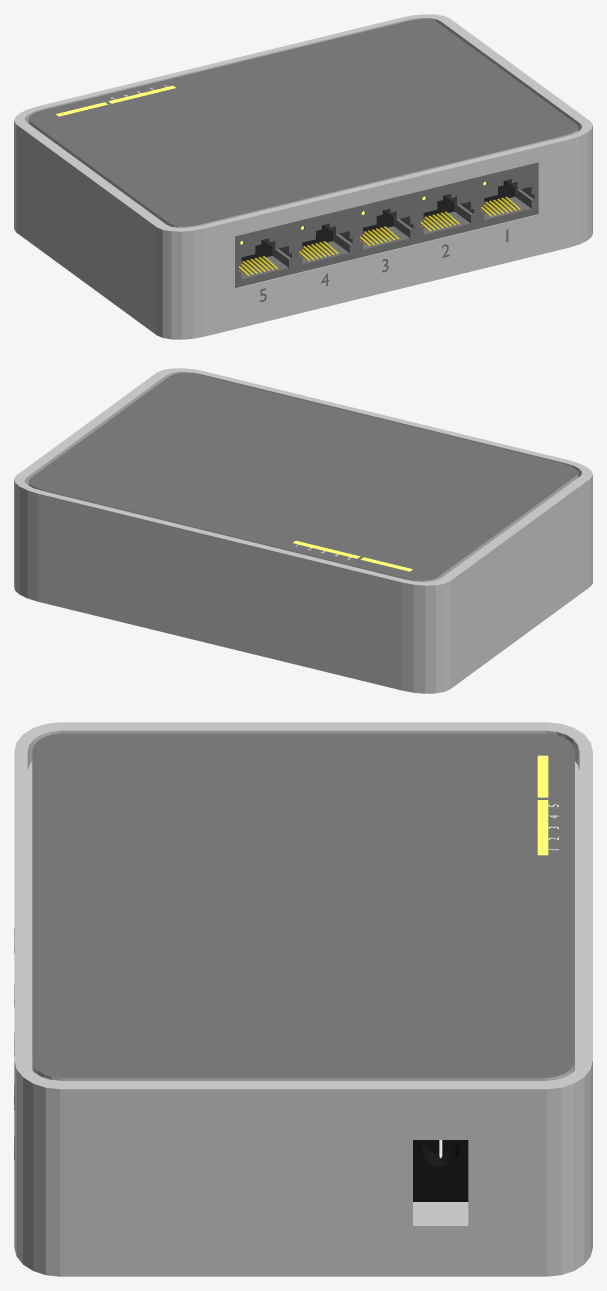
The picture shows the model from 3 angles, top to bottom: view 1: azimuth 30°, elevation 25°; view 2: azimuth 150°, elevation 25°; view 3: azimuth 270°, elevation 25°; orthographic projection. The views are drawn at different scales.
Visible parts, largest first — view 1: Plane.005_0, Plane.009_2, Plane.011_10; view 2: Plane.005_0; view 3: Plane.005_0.
Part boxes in pixels (x1,y1,x2,y2): Plane.005_0: (14,14,592,339); Plane.009_2: (204,139,569,336); Plane.011_10: (238,196,521,275); Plane.005_0: (14,368,592,693); Plane.005_0: (14,722,592,1276).
Size of the model in its own units: 1 by 0.2402 by 0.6698.
